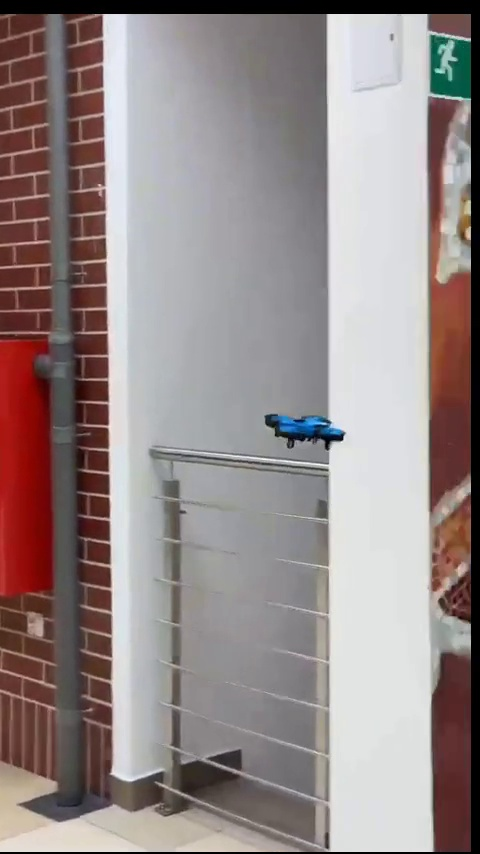drone: (265, 409, 342, 449)
